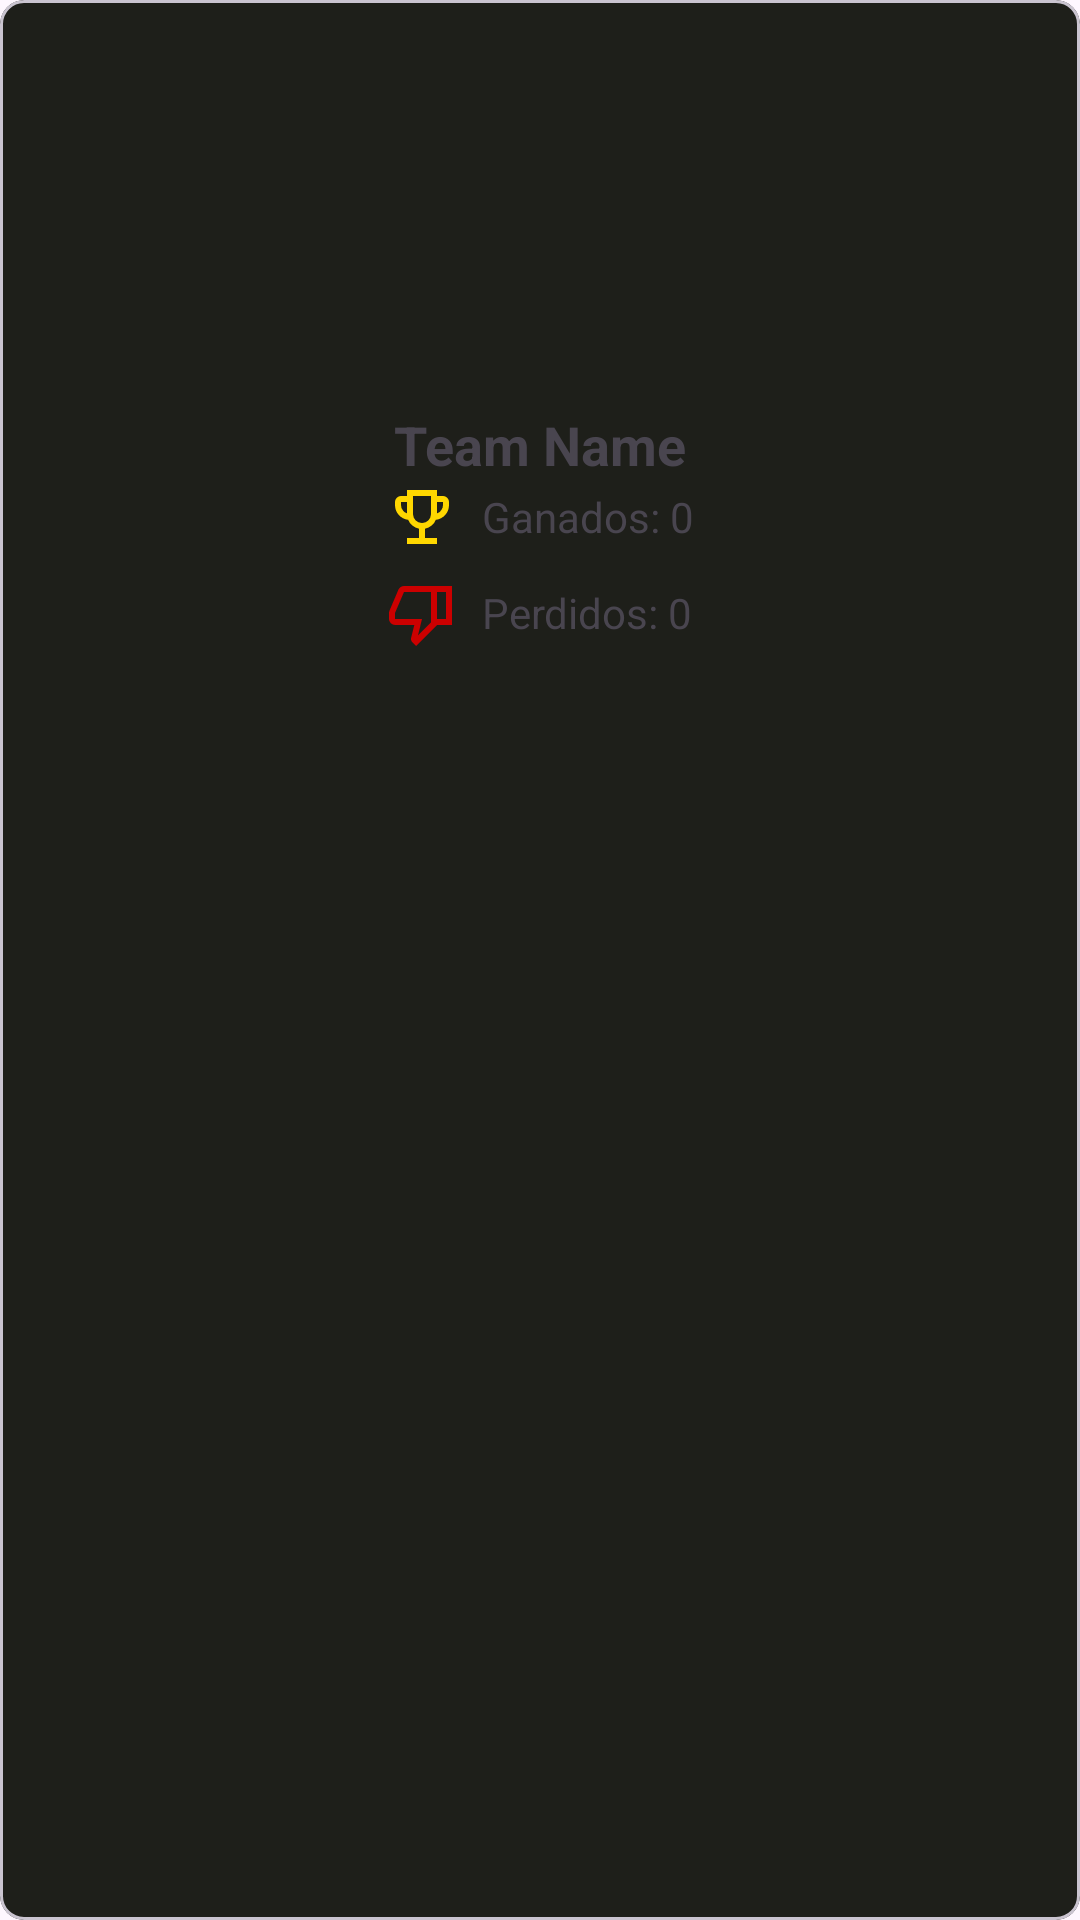

Where icons sit on this 1080x1920 app screen, as (x1, y1, x2, y2):
thumb down: (389, 586, 452, 646)
trophy: (395, 490, 449, 544)
